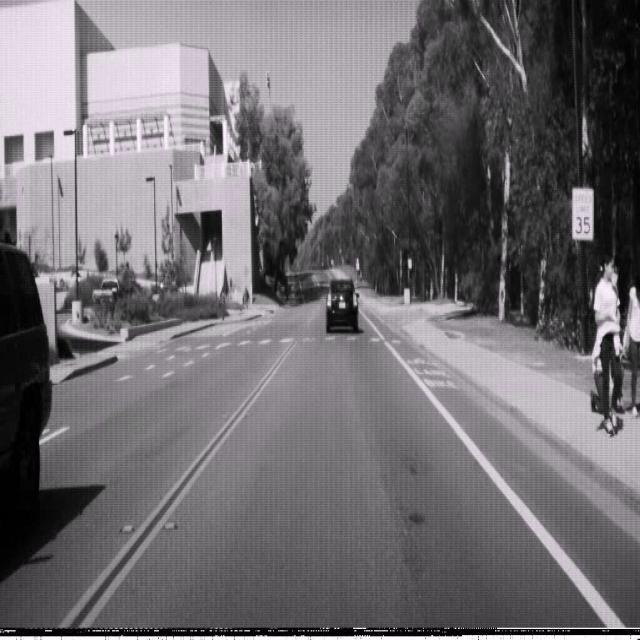speedLimit35: (570, 187, 594, 240)
